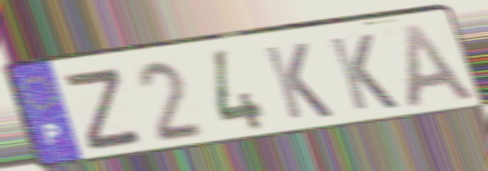2: (134, 58, 207, 145)
4: (211, 45, 270, 135)
A: (400, 22, 482, 111)
K: (325, 31, 402, 114), (260, 40, 337, 123)
Z: (62, 64, 147, 154)
